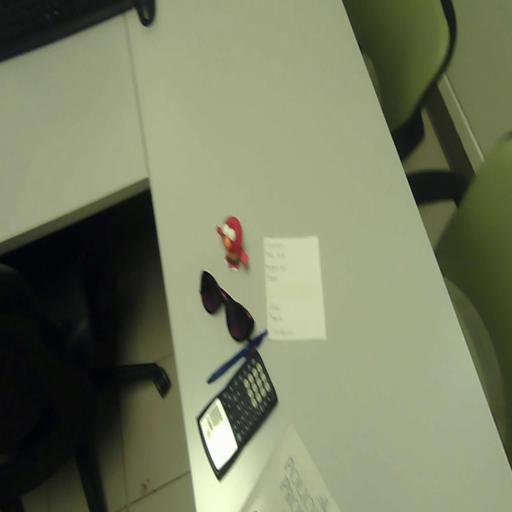pen: (207, 329, 268, 383)
